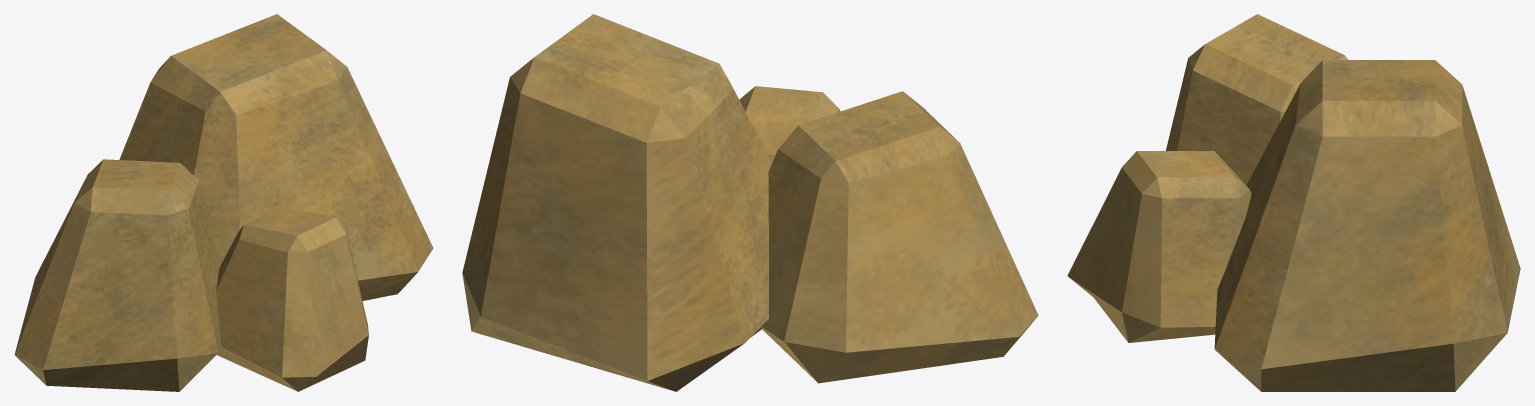
File: Rock_2.fbx
3 views of the same model, side by side, from view 1: azimuth 30°, elevation 25°; view 2: azimuth 150°, elevation 25°; view 3: azimuth 270°, elevation 25° (orthographic). The views are drawn at different scales.
Parts seen in each view (by area): view 1: 立方体; view 2: 立方体; view 3: 立方体.
Boxes of the visible parts, x1,y1,x2,y2 form: 立方体: (14, 14, 433, 391); 立方体: (462, 14, 1038, 391); 立方体: (1067, 14, 1520, 391).
Size of the model in its own units: 378 by 206 by 315.
